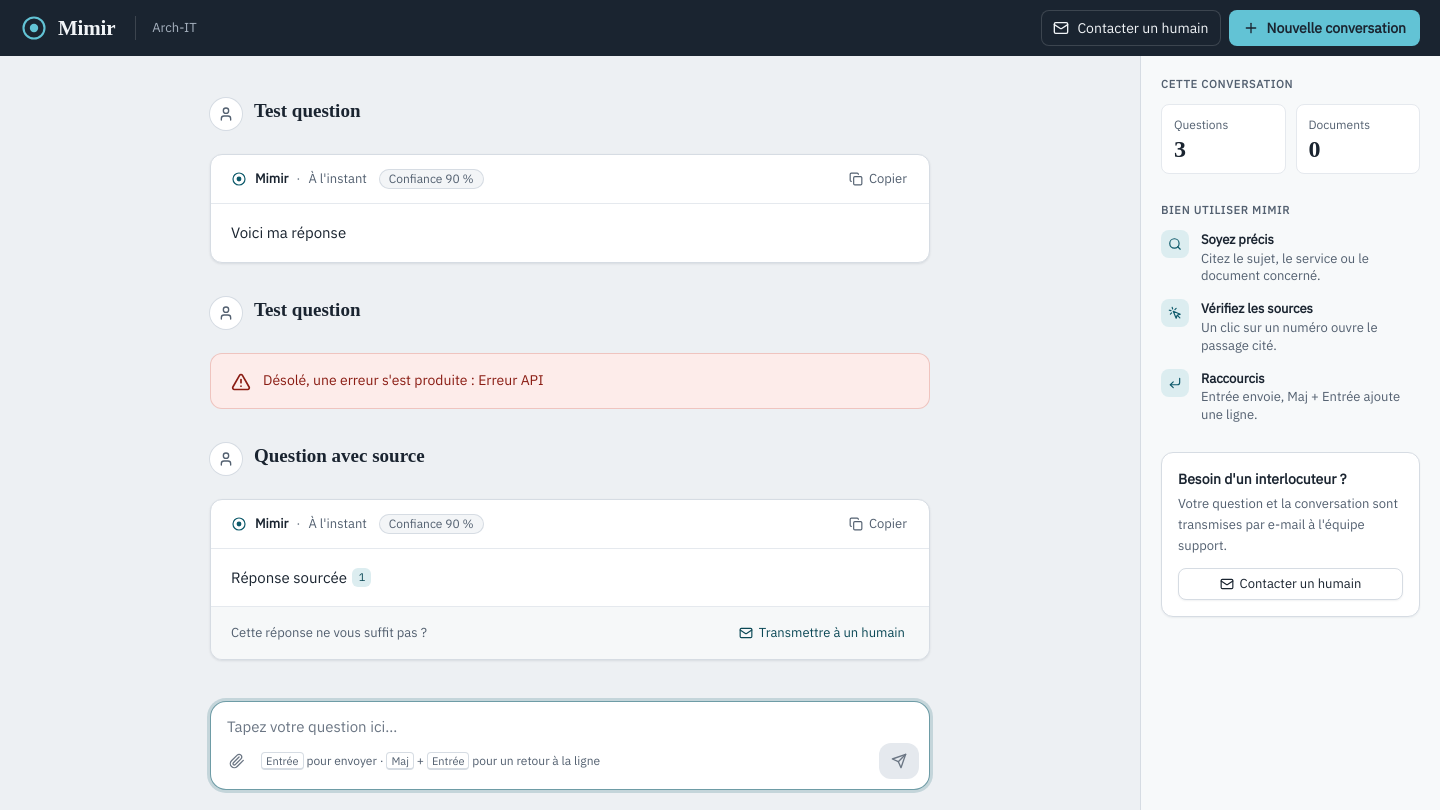
ChatPage › permet de démarrer une nouvelle conversation
Click the button "Nouvelle conversation". click: (1324, 28)
box: x1=1229 y1=10 x2=1420 y2=46
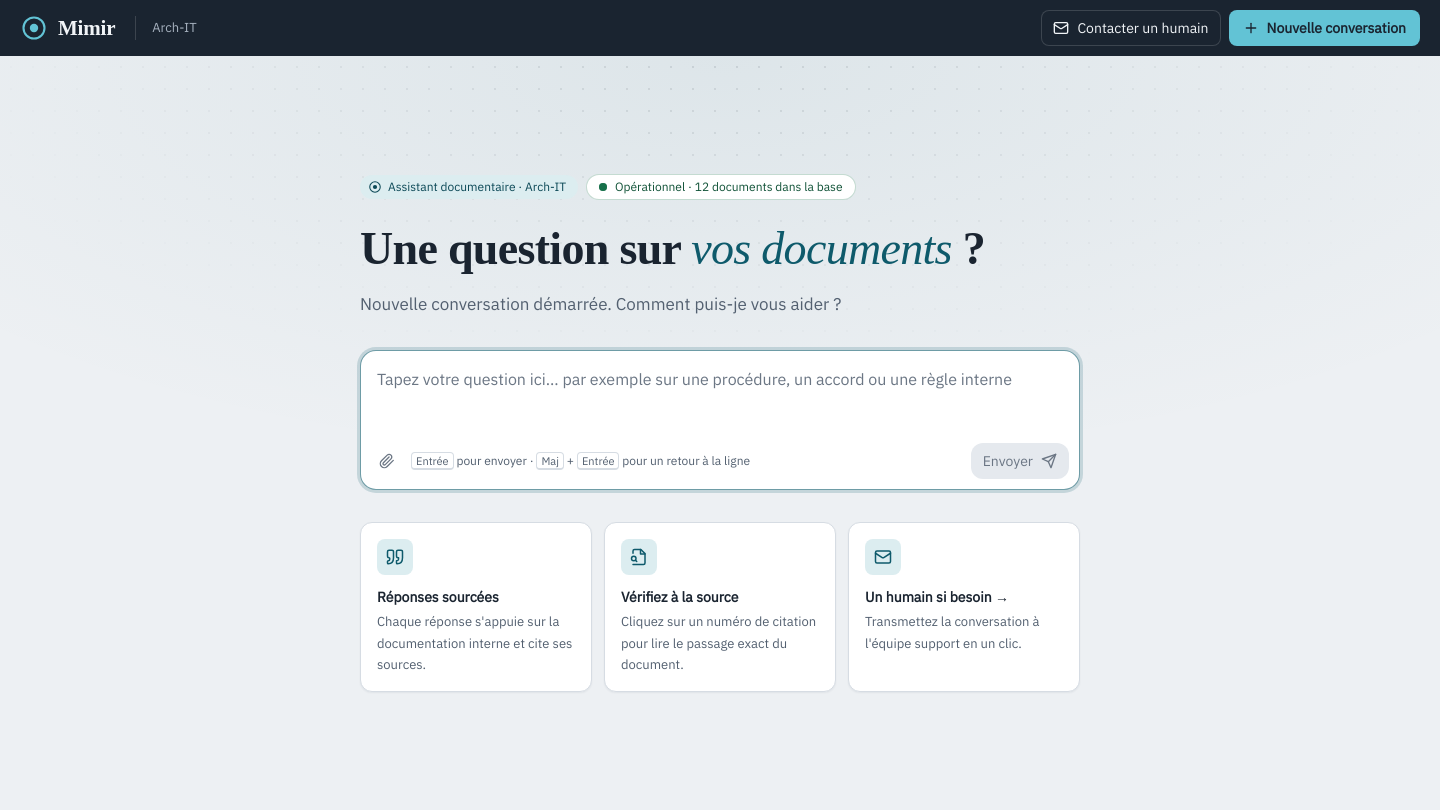
Expected: the text "Nouvelle conversation démarrée. Comment puis-je vous aider ?" is shown, x1=360 y1=293 x2=841 y2=315
